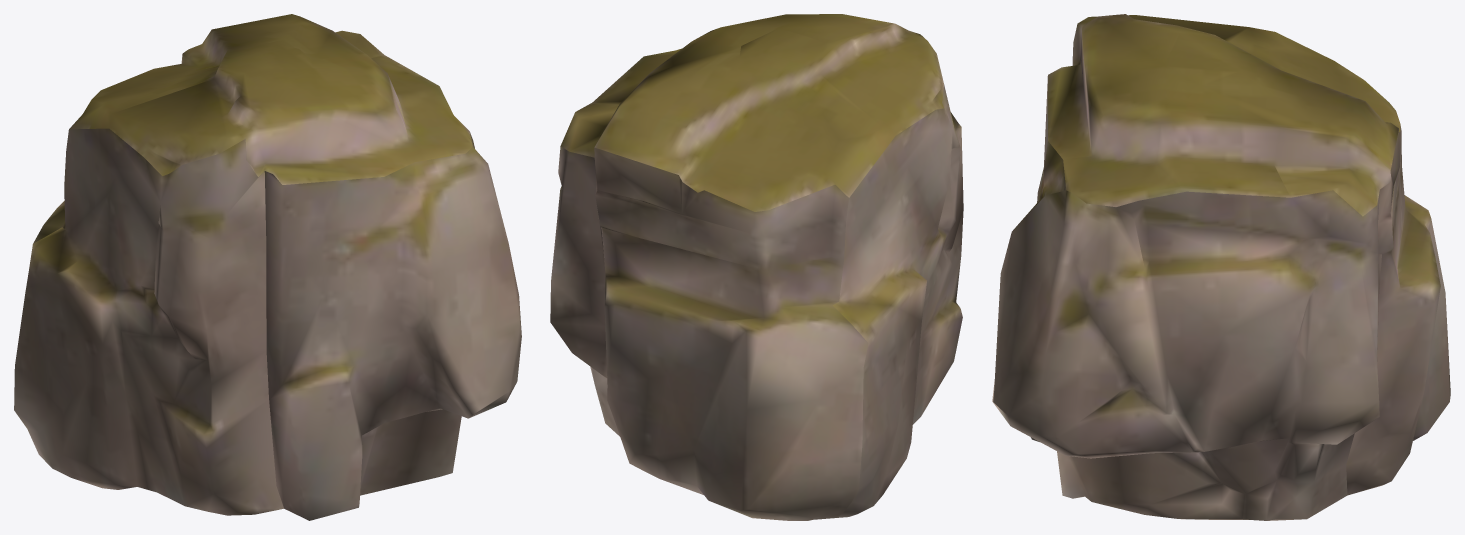
The model's file is mossy-rock-b.lod0.glb.
The picture shows the model from 3 angles, left to right: view 1: azimuth 30°, elevation 25°; view 2: azimuth 150°, elevation 25°; view 3: azimuth 270°, elevation 25°; orthographic projection. The views are drawn at different scales.
Parts seen in each view (by area): view 1: defaultMaterial; view 2: defaultMaterial; view 3: defaultMaterial.
Boxes of the visible parts, x1=… form: defaultMaterial: x1=14, y1=14, x2=521, y2=520; defaultMaterial: x1=550, y1=14, x2=963, y2=520; defaultMaterial: x1=992, y1=14, x2=1450, y2=520.
Size of the model in its own units: 4.4 by 5 by 4.98.
1 material, 1 textured.
